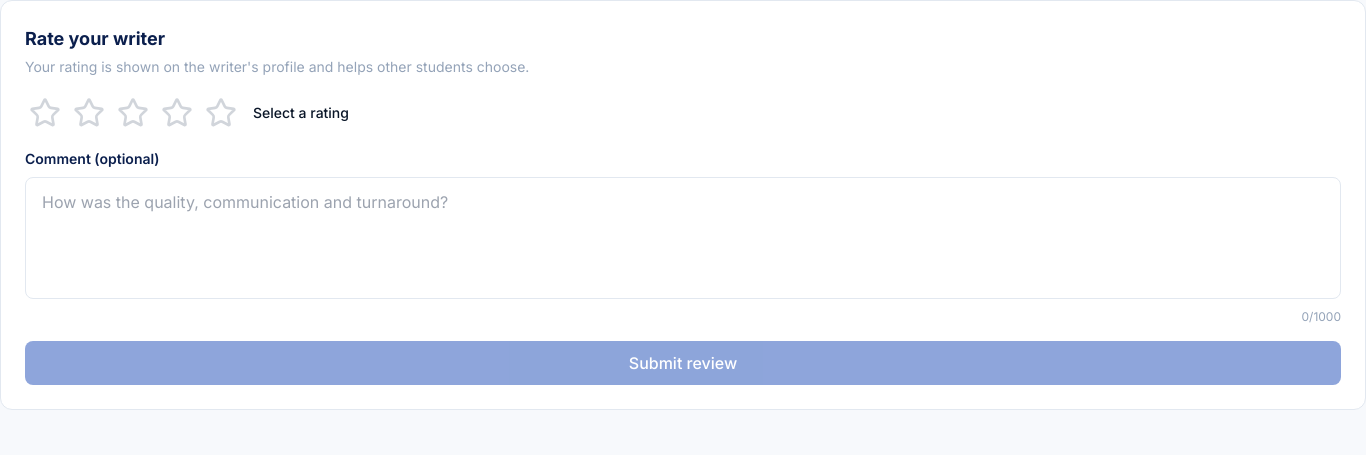
Test: ReviewForm › refuses to submit without a token
Step 1. Click the button named "3 stars" → coordinates (133, 113), box left=113, top=93, right=153, bottom=133
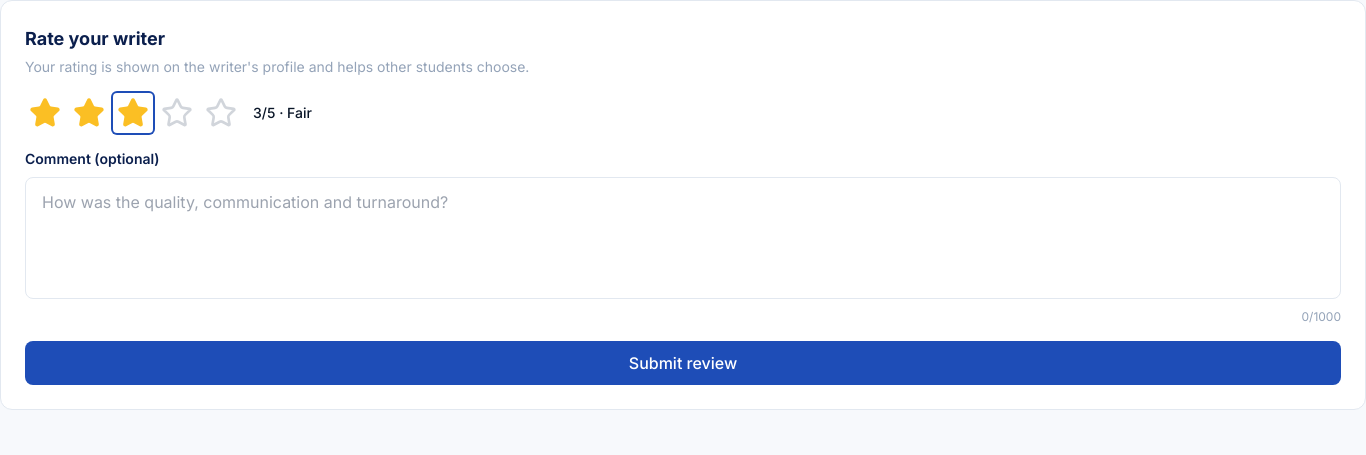
Step 2. Click the button "Submit review" → coordinates (683, 363), box left=25, top=341, right=1341, bottom=385
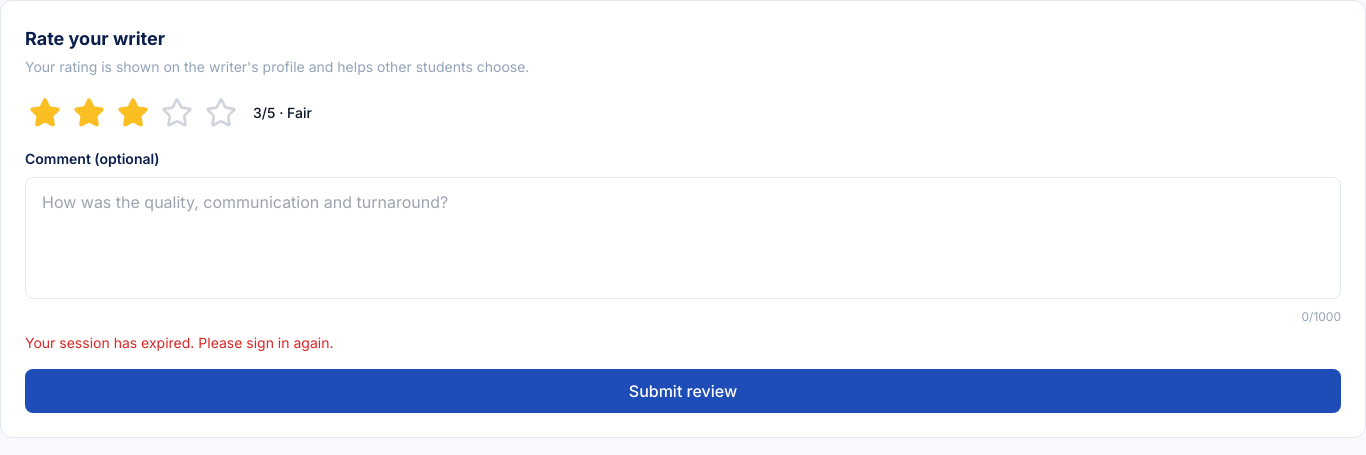
expect the message shows "session has expired": met, box left=25, top=334, right=334, bottom=351
